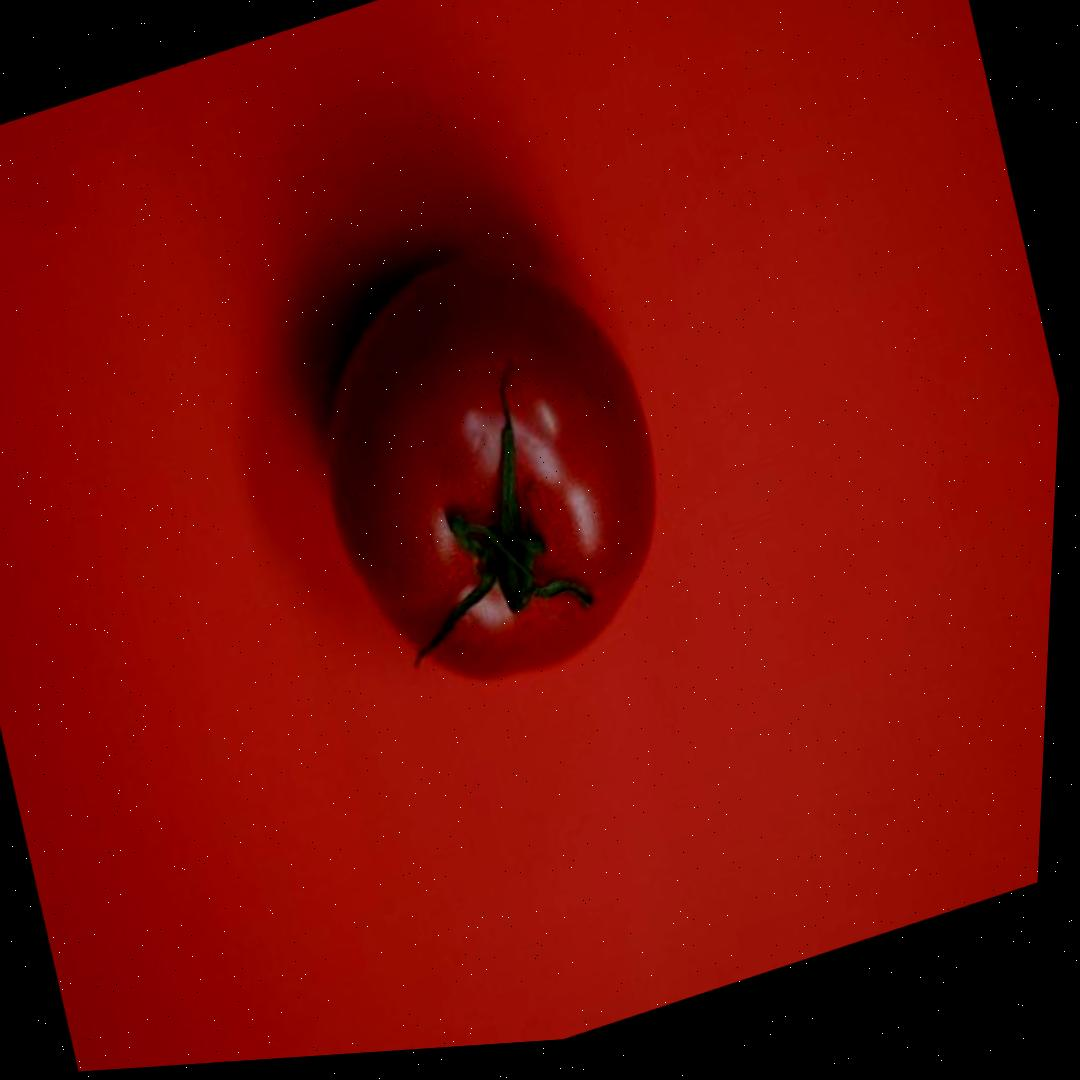matang: (269, 205, 705, 727)
